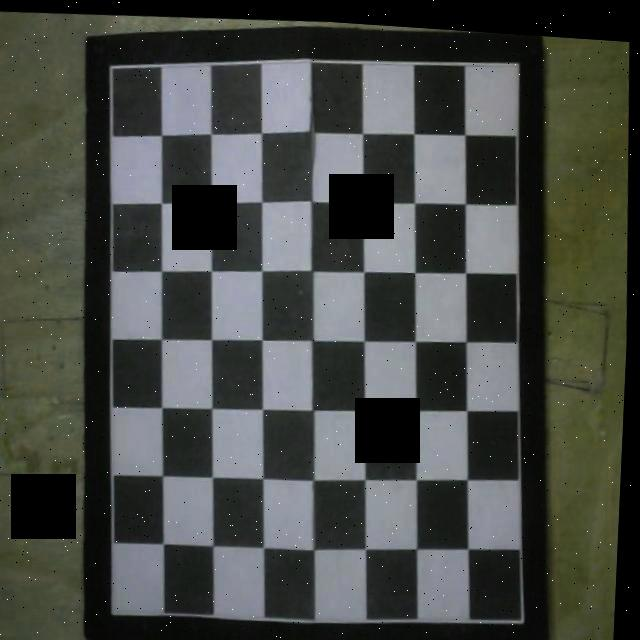chess-table-corners: (108, 62, 112, 68), (526, 612, 530, 618), (115, 610, 118, 614), (518, 54, 520, 58)
